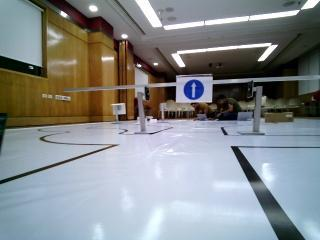straight: (177, 76, 214, 103)
